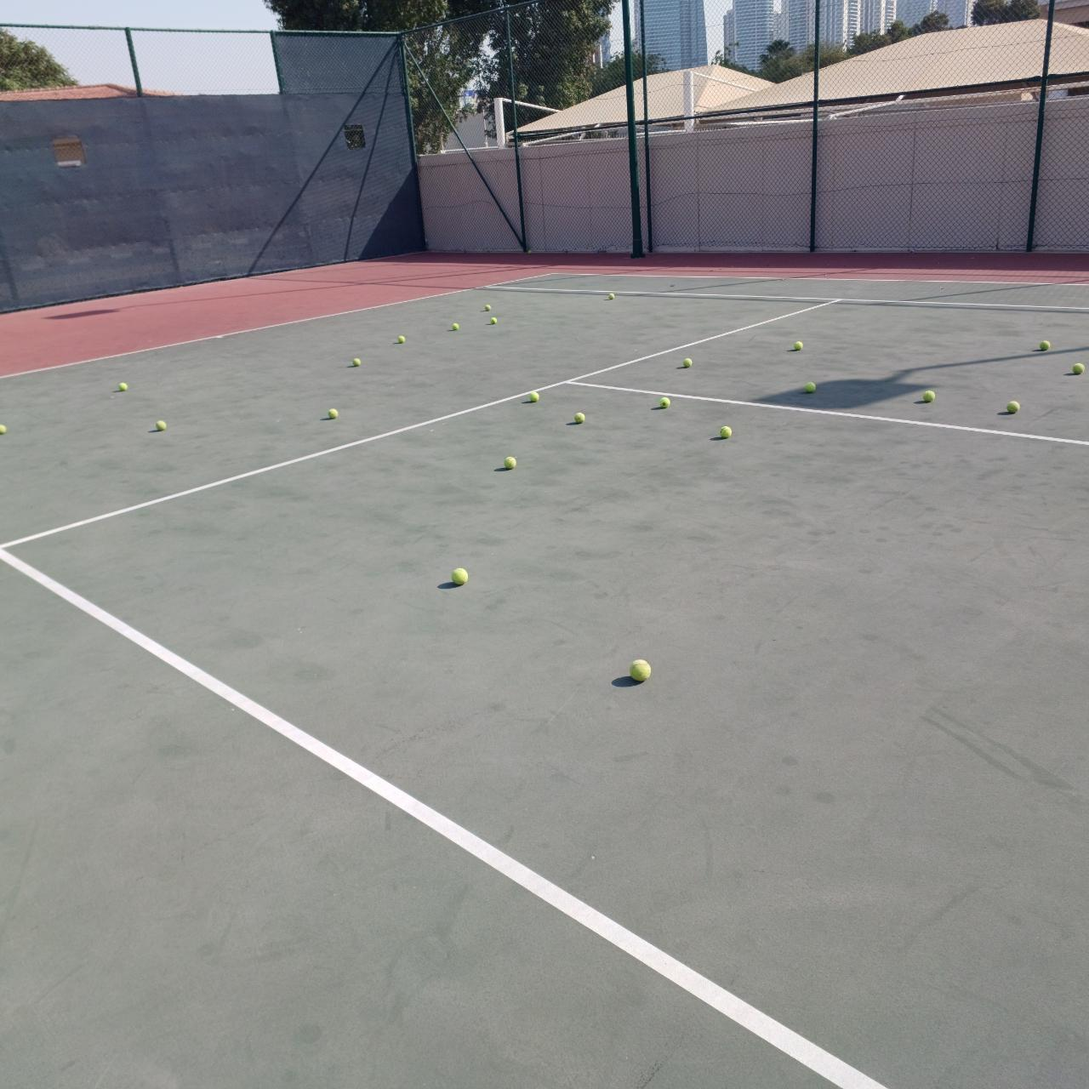tennis-ball: (628, 657, 651, 681), (449, 565, 468, 585), (717, 424, 732, 438), (1007, 400, 1020, 414), (504, 456, 516, 470), (923, 390, 935, 402), (1073, 363, 1085, 375), (804, 382, 816, 393), (574, 412, 585, 424), (659, 397, 670, 409), (155, 420, 166, 431), (1039, 340, 1050, 351), (328, 408, 338, 418), (529, 392, 539, 402), (683, 358, 693, 368), (118, 382, 128, 391), (794, 341, 803, 350), (0, 425, 7, 435), (353, 358, 361, 366), (452, 323, 460, 331), (398, 335, 405, 344), (490, 317, 497, 325), (485, 304, 491, 311), (609, 293, 615, 300)
